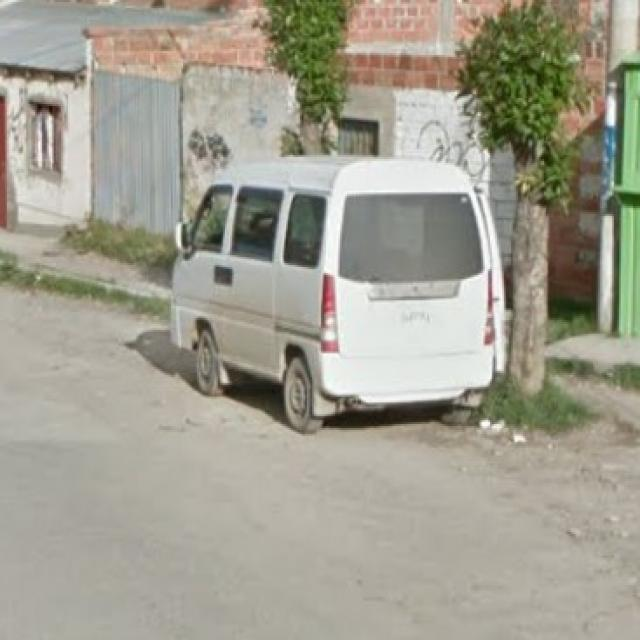cars: (169, 164, 513, 434)
